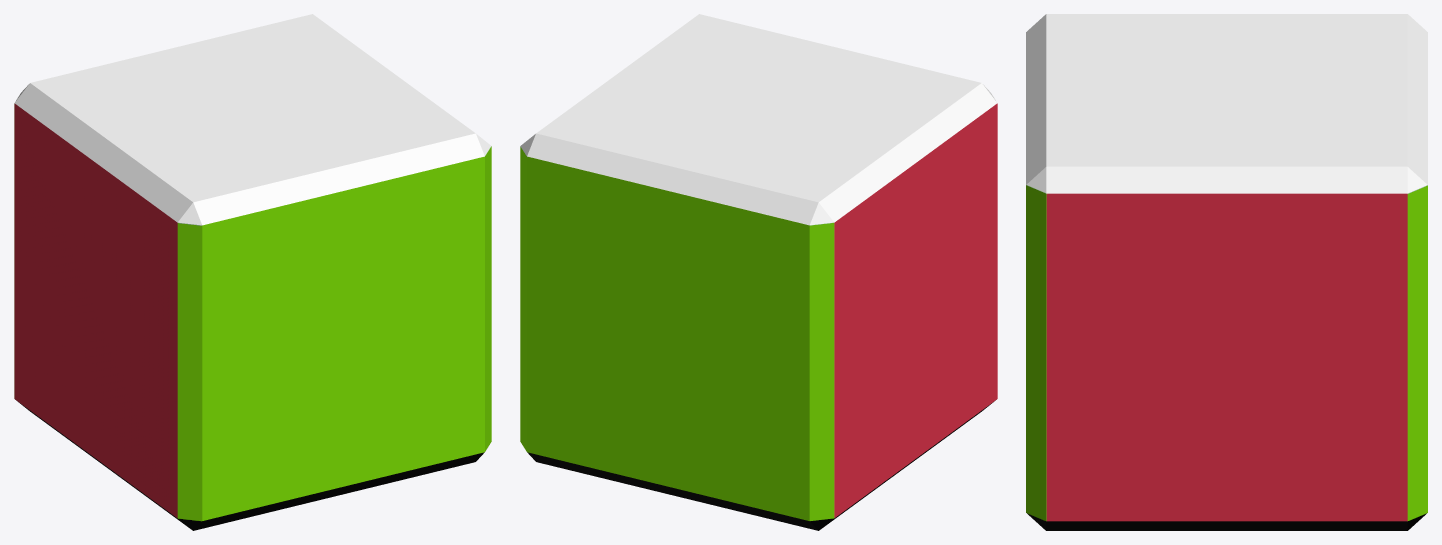
File: testcube.glb
3 renders of one model, left to right at view 1: azimuth 30°, elevation 25°; view 2: azimuth 150°, elevation 25°; view 3: azimuth 270°, elevation 25°, orthographic. The views are drawn at different scales.
Parts seen in each view (by area): view 1: TestCube; view 2: TestCube; view 3: TestCube.
Boxes of the visible parts, x1,y1,x2,y2 form: TestCube: (14,14,491,530); TestCube: (520,14,997,530); TestCube: (1026,14,1427,530).
Size of the model in its own units: 1 by 1 by 1.
Materials: 1 (1 with a texture image).
